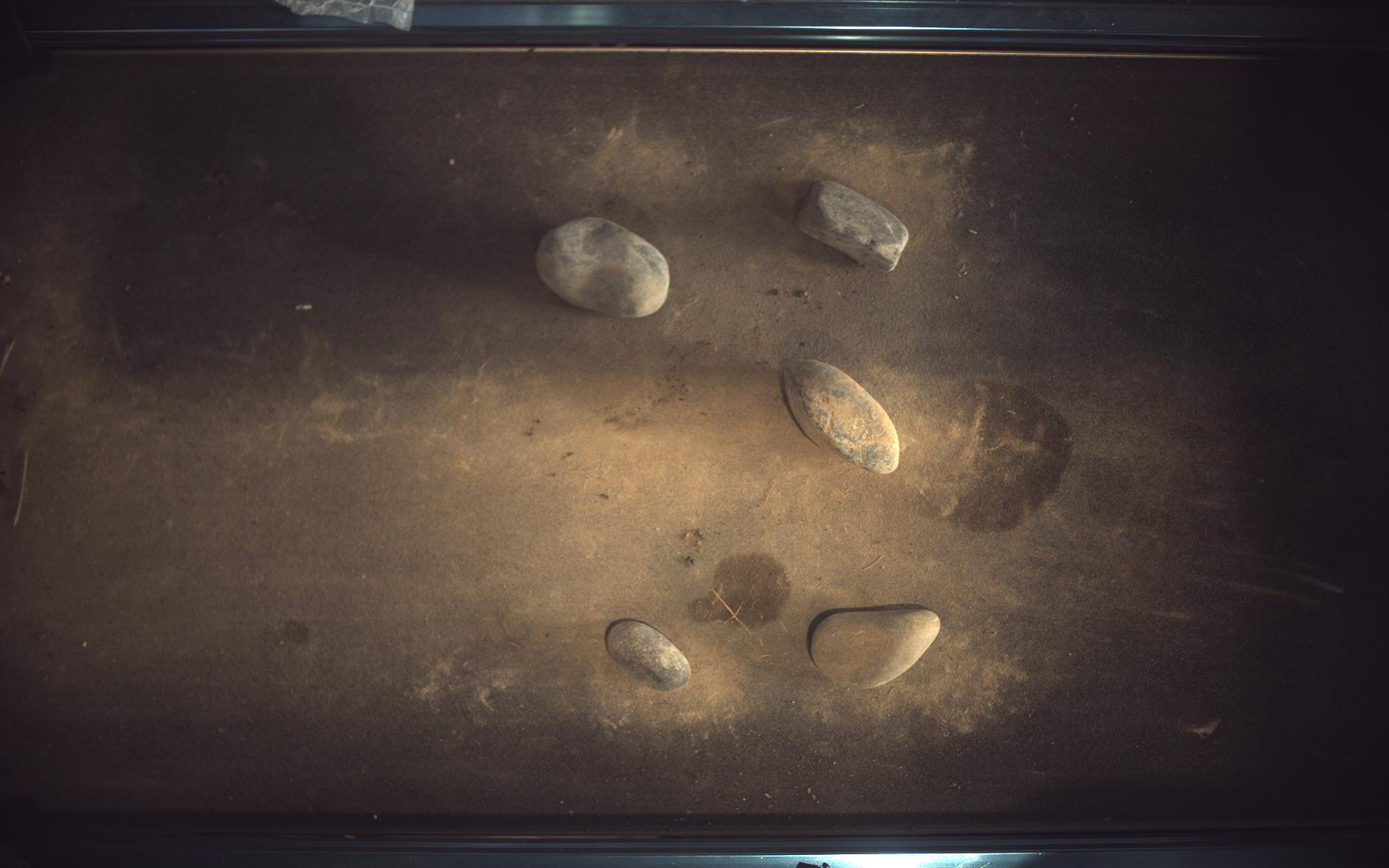stone: (536, 216, 671, 318), (783, 359, 901, 475), (808, 605, 942, 690), (799, 179, 910, 271), (606, 619, 692, 692)
